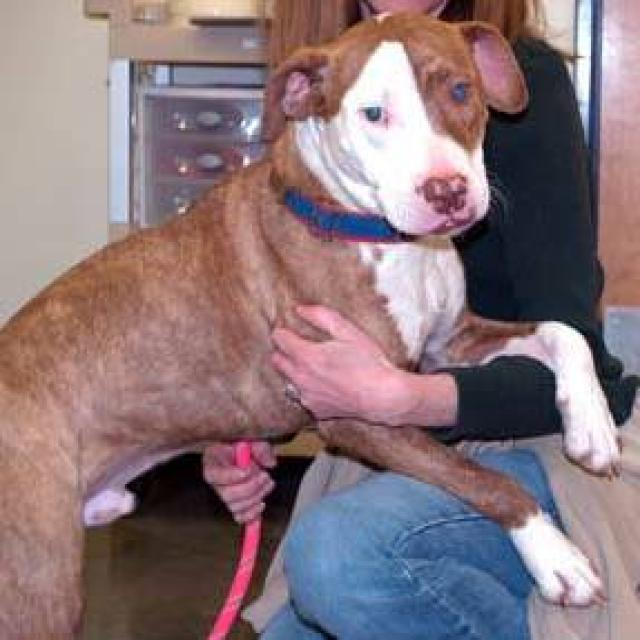dog: (0, 5, 622, 638)
